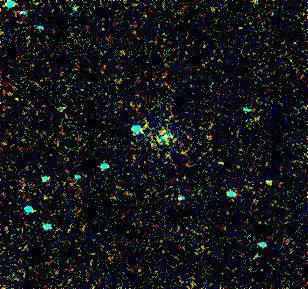star: (28, 186, 58, 216)
